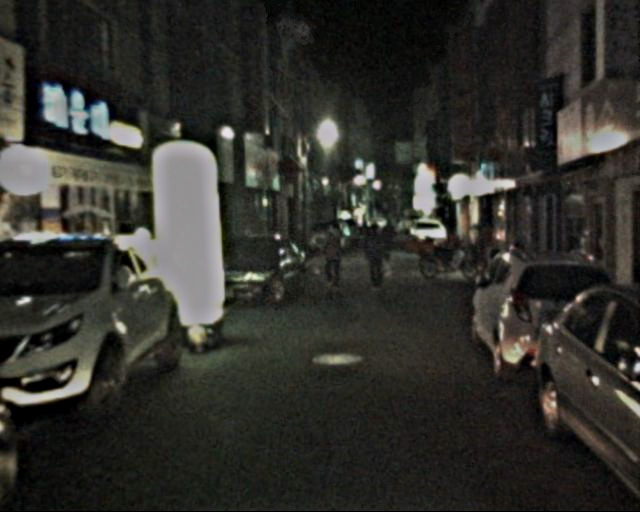person: (358, 220, 390, 297), (319, 218, 349, 290)
